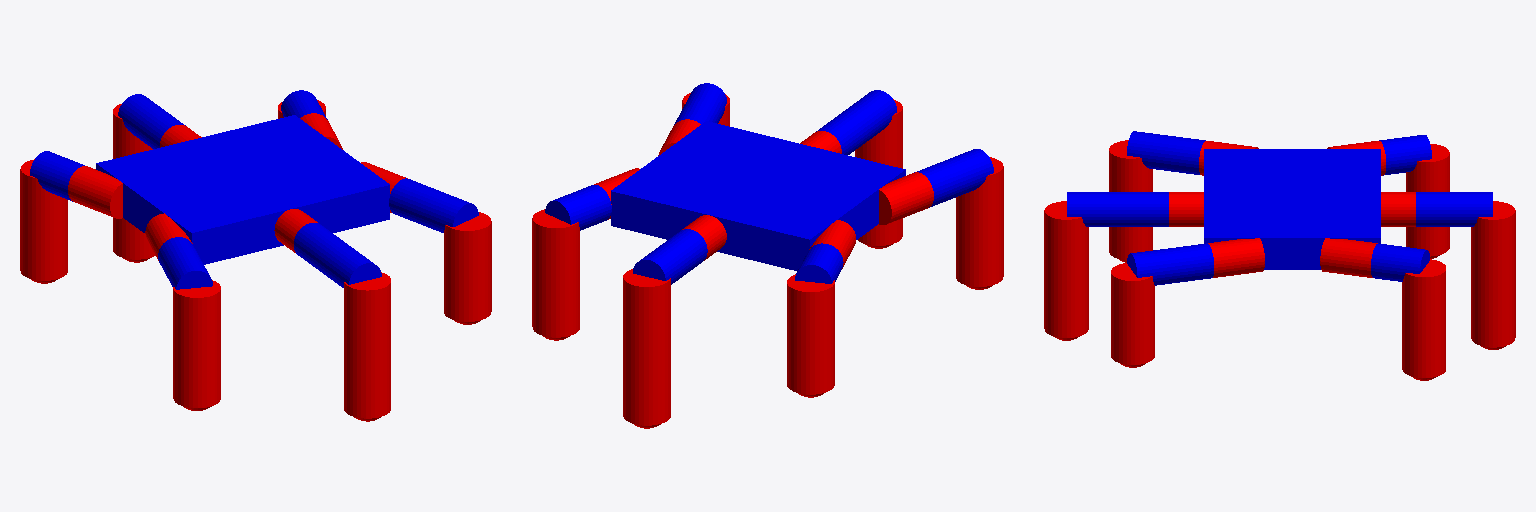
--- Facts derived from the render (not from the file) ---
Views: 3 orthographic renders of the robot side by side, from view 1: azimuth 30°, elevation 25°; view 2: azimuth 150°, elevation 25°; view 3: azimuth 270°, elevation 25°.
Model pexod with 19 links and 18 joints (18 revolute), rooted at base_link, posed every joint at zero.
Links seen in each view (by area): view 1: base_link, leg_4_3, leg_5_3, leg_3_3, leg_0_3, leg_4_2, leg_3_2, leg_1_3, leg_0_1, leg_5_2, leg_1_2, leg_0_2 (+5 smaller); view 2: base_link, leg_1_3, leg_2_3, leg_0_3, leg_5_3, leg_4_2, leg_4_3, leg_1_2, leg_5_2, leg_5_1, leg_2_2, leg_0_2 (+5 smaller); view 3: base_link, leg_1_3, leg_4_3, leg_2_3, leg_3_3, leg_4_2, leg_5_3, leg_3_2, leg_0_3, leg_1_2, leg_5_2, leg_3_1 (+5 smaller).
Link boxes in pixels (x1,y1,x2,y2): base_link: (96,115,389,264); leg_4_3: (344,272,390,421); leg_5_3: (173,280,220,410); leg_3_3: (444,212,491,324); leg_0_3: (20,159,67,283); leg_4_2: (294,223,381,287); leg_3_2: (389,178,478,232); leg_1_3: (113,104,155,262); leg_0_1: (68,166,122,218); leg_5_2: (158,237,212,289); leg_1_2: (118,94,185,148); leg_0_2: (30,151,84,201); base_link: (611,121,905,270); leg_1_3: (623,269,670,428); leg_2_3: (532,209,579,340); leg_0_3: (787,274,834,397); leg_5_3: (956,157,1003,289); leg_4_2: (816,90,896,154); leg_4_3: (855,99,902,248); leg_1_2: (633,229,707,284); leg_5_2: (914,149,993,207); leg_5_1: (879,172,933,224); leg_2_2: (545,185,611,230); leg_0_2: (795,243,843,283); base_link: (1204,149,1380,269); leg_1_3: (1471,201,1515,349); leg_4_3: (1044,201,1088,340); leg_2_3: (1402,259,1445,380); leg_3_3: (1111,263,1154,367); leg_4_2: (1067,192,1168,226); leg_5_3: (1109,140,1152,262); leg_3_2: (1127,243,1213,285); leg_0_3: (1406,144,1449,258); leg_1_2: (1416,192,1492,226); leg_5_2: (1127,131,1205,174); leg_3_1: (1208,238,1264,277).
Size in the robot's own frame: 0.3774 by 0.533 by 0.192 metres.
Geometry: primitives only (box / cylinder / sphere), no mesh files.

URDF robot description (pexod):
<?xml version="1.0" ?>
<!-- =================================================================================== -->
<!-- |    This document was autogenerated by xacro from pexod.xacro                    | -->
<!-- |    EDITING THIS FILE BY HAND IS NOT RECOMMENDED                                 | -->
<!-- =================================================================================== -->
<robot name="pexod" xmlns:xacro="http://www.ros.org/wiki/xacro">
  <!-- <xacro:include filename="$(find pexod_description)/urdf/pexod_control.xacro" /> -->
  <!-- MATERIALS -->
  <material name="Blue">
    <color rgba="0 0 1 1"/>
  </material>
  <material name="Red">
    <color rgba="1 0 0 1"/>
  </material>
  <material name="Green">
    <color rgba="0 1 0 1"/>
  </material>
  <material name="Yellow">
    <color rgba="1 1 0 1"/>
  </material>
  <material name="LightGrey">
    <color rgba="0.6 0.6 0.6 1.0"/>
  </material>
  <!-- END OF MATERIALS -->
  <!-- XACRO MACROS FOR VISUALS AND COLLISIONS -->
  <!-- END OF XACRO MACROS -->
  <!-- TORSO -->
  <link name="base_link">
    <visual>
      <origin rpy="0 0 0" xyz="0 0 0"/>
      <geometry>
        <box size="0.24 0.2 0.04"/>
      </geometry>
      <material name="Blue"/>
    </visual>
    <collision>
      <origin rpy="0 0 0" xyz="0 0 0"/>
      <geometry>
        <box size="0.24 0.2 0.04"/>
      </geometry>
    </collision>
    <inertial>
      <!-- CENTER OF MASS -->
      <origin rpy="0 0 0" xyz="0 0 0"/>
      <mass value="1.031"/>
      <!-- box inertia: 1/12*m(y^2+z^2), ... -->
      <inertia ixx="0.00357413333333" ixy="0" ixz="0" iyy="0.00508626666667" iyz="0" izz="0.00838546666667"/>
    </inertial>
  </link>
  <!-- XACRO MACRO FOR LEGS LINKS/JOINTS -->
  <!-- END OF LEG LINKS/JOINTS -->
  <joint name="body_leg_2" type="revolute">
    <parent link="base_link"/>
    <child link="leg_2_1"/>
    <limit effort="30.0" lower="-1.57079632679" upper="1.57079632679" velocity="7.0"/>
    <origin rpy="0 0 -0.3" xyz="0.11 0.04 0"/>
    <!-- <xacro:if value="${index == 5 or index == 4 or index == 3}">
                <axis xyz="0 0 1"/>
            </xacro:if>
            <xacro:if value="${index == 2 or index == 1 or index == 0}"> -->
    <axis xyz="0 0 1"/>
    <!-- </xacro:if> -->
    <dynamics damping="0.0"/>
  </joint>
  <link name="leg_2_1">
    <visual>
      <origin rpy="1.57079632679 0 0" xyz="0.01 0.03 0"/>
      <geometry>
        <cylinder length="0.06" radius="0.02"/>
      </geometry>
      <material name="Red"/>
    </visual>
    <collision>
      <origin rpy="1.57079632679 0 0" xyz="0.01 0.03 0"/>
      <geometry>
        <box size="0.02 0.02 0.06"/>
      </geometry>
    </collision>
    <inertial>
      <!-- CENTER OF MASS -->
      <origin rpy="1.57079632679 0 0" xyz="0.01 0.03 0"/>
      <mass value="0.02"/>
      <!-- box inertia: 1/12*m(y^2+z^2), ... -->
      <inertia ixx="6.66666666667e-06" ixy="0" ixz="0" iyy="6.66666666667e-06" iyz="0" izz="1.33333333333e-06"/>
    </inertial>
  </link>
  <joint name="leg_2_1_2" type="revolute">
    <parent link="leg_2_1"/>
    <child link="leg_2_2"/>
    <limit effort="30.0" lower="-0.78539816339" upper="0.78539816339" velocity="7.0"/>
    <origin rpy="0 0 0" xyz="0 0.06 0"/>
    <axis xyz="1 0 0"/>
    <dynamics damping="0.0"/>
  </joint>
  <link name="leg_2_2">
    <visual>
      <origin rpy="1.57079632679 0 0" xyz="0.01 0.0290148233759 0"/>
      <geometry>
        <cylinder length="0.0580296467518" radius="0.02"/>
      </geometry>
      <material name="Blue"/>
    </visual>
    <collision>
      <origin rpy="1.57079632679 0 0" xyz="0.01 0.0290148233759 0"/>
      <geometry>
        <box size="0.02 0.02 0.0580296467518"/>
      </geometry>
    </collision>
    <inertial>
      <!-- CENTER OF MASS -->
      <origin rpy="1.57079632679 0 0" xyz="0.01 0.0290148233759 0"/>
      <mass value="0.184"/>
      <!-- box inertia: 1/12*m(y^2+z^2), ... -->
      <inertia ixx="5.77674118328e-05" ixy="0" ixz="0" iyy="5.77674118328e-05" iyz="0" izz="1.22666666667e-05"/>
    </inertial>
  </link>
  <joint name="leg_2_2_3" type="revolute">
    <parent link="leg_2_2"/>
    <child link="leg_2_3"/>
    <limit effort="30.0" lower="-0.78539816339" upper="0.78539816339" velocity="7.0"/>
    <origin rpy="-1.57079632679 0 0" xyz="0 0.0580296467518 0"/>
    <axis xyz="-1 0 0"/>
    <dynamics damping="0.0"/>
  </joint>
  <link name="leg_2_3">
    <visual>
      <origin rpy="1.57079632679 0 0" xyz="0.0125 0.0628916023385 0"/>
      <geometry>
        <cylinder length="0.125783204677" radius="0.025"/>
      </geometry>
      <material name="Red"/>
    </visual>
    <visual>
      <origin rpy="1.57079632679 0 0" xyz="0.0125 0.113283204677 0"/>
      <geometry>
        <sphere radius="0.025"/>
      </geometry>
      <material name="Red"/>
    </visual>
    <collision>
      <origin rpy="1.57079632679 0 0" xyz="0.0125 0.0628916023385 0"/>
      <geometry>
        <box size="0.025 0.025 0.125783204677"/>
      </geometry>
    </collision>
    <collision>
      <origin rpy="1.57079632679 0 0" xyz="0.0125 0.113283204677 0"/>
      <geometry>
        <sphere radius="0.025"/>
      </geometry>
      <material name="Red"/>
    </collision>
    <inertial>
      <!-- CENTER OF MASS -->
      <origin rpy="1.57079632679 0 0" xyz="0.0125 0.0628916023385 0"/>
      <mass value="0.04"/>
      <!-- box inertia: 1/12*m(y^2+z^2), ... -->
      <inertia ixx="5.48213819294e-05" ixy="0" ixz="0" iyy="5.48213819294e-05" iyz="0" izz="4.16666666667e-06"/>
    </inertial>
  </link>
  <joint name="body_leg_3" type="revolute">
    <parent link="base_link"/>
    <child link="leg_3_1"/>
    <limit effort="30.0" lower="-1.57079632679" upper="1.57079632679" velocity="7.0"/>
    <origin rpy="0 0 0.3" xyz="0.11 -0.04 0"/>
    <!-- <xacro:if value="${index == 5 or index == 4 or index == 3}">
                <axis xyz="0 0 1"/>
            </xacro:if>
            <xacro:if value="${index == 2 or index == 1 or index == 0}"> -->
    <axis xyz="0 0 1"/>
    <!-- </xacro:if> -->
    <dynamics damping="0.0"/>
  </joint>
  <link name="leg_3_1">
    <visual>
      <origin rpy="1.57079632679 0 0" xyz="0.01 -0.03 0"/>
      <geometry>
        <cylinder length="0.06" radius="0.02"/>
      </geometry>
      <material name="Red"/>
    </visual>
    <collision>
      <origin rpy="1.57079632679 0 0" xyz="0.01 -0.03 0"/>
      <geometry>
        <box size="0.02 0.02 0.06"/>
      </geometry>
    </collision>
    <inertial>
      <!-- CENTER OF MASS -->
      <origin rpy="1.57079632679 0 0" xyz="0.01 -0.03 0"/>
      <mass value="0.02"/>
      <!-- box inertia: 1/12*m(y^2+z^2), ... -->
      <inertia ixx="6.66666666667e-06" ixy="0" ixz="0" iyy="6.66666666667e-06" iyz="0" izz="1.33333333333e-06"/>
    </inertial>
  </link>
  <joint name="leg_3_1_2" type="revolute">
    <parent link="leg_3_1"/>
    <child link="leg_3_2"/>
    <limit effort="30.0" lower="-0.78539816339" upper="0.78539816339" velocity="7.0"/>
    <origin rpy="0 0 0" xyz="0 -0.06 0"/>
    <axis xyz="-1 0 0"/>
    <dynamics damping="0.0"/>
  </joint>
  <link name="leg_3_2">
    <visual>
      <origin rpy="1.57079632679 0 0" xyz="0.01 -0.0455737501777 0"/>
      <geometry>
        <cylinder length="0.0911475003555" radius="0.02"/>
      </geometry>
      <material name="Blue"/>
    </visual>
    <collision>
      <origin rpy="1.57079632679 0 0" xyz="0.01 -0.0455737501777 0"/>
      <geometry>
        <box size="0.02 0.02 0.0911475003555"/>
      </geometry>
    </collision>
    <inertial>
      <!-- CENTER OF MASS -->
      <origin rpy="1.57079632679 0 0" xyz="0.01 -0.0455737501777 0"/>
      <mass value="0.184"/>
      <!-- box inertia: 1/12*m(y^2+z^2), ... -->
      <inertia ixx="0.00013352062459" ixy="0" ixz="0" iyy="0.00013352062459" iyz="0" izz="1.22666666667e-05"/>
    </inertial>
  </link>
  <joint name="leg_3_2_3" type="revolute">
    <parent link="leg_3_2"/>
    <child link="leg_3_3"/>
    <limit effort="30.0" lower="-0.78539816339" upper="0.78539816339" velocity="7.0"/>
    <origin rpy="1.57079632679 0 0" xyz="0 -0.0911475003555 0"/>
    <axis xyz="1 0 0"/>
    <dynamics damping="0.0"/>
  </joint>
  <link name="leg_3_3">
    <visual>
      <origin rpy="1.57079632679 0 0" xyz="0.0125 -0.052447094739 0"/>
      <geometry>
        <cylinder length="0.104894189478" radius="0.025"/>
      </geometry>
      <material name="Red"/>
    </visual>
    <visual>
      <origin rpy="1.57079632679 0 0" xyz="0.0125 -0.092394189478 0"/>
      <geometry>
        <sphere radius="0.025"/>
      </geometry>
      <material name="Red"/>
    </visual>
    <collision>
      <origin rpy="1.57079632679 0 0" xyz="0.0125 -0.052447094739 0"/>
      <geometry>
        <box size="0.025 0.025 0.104894189478"/>
      </geometry>
    </collision>
    <collision>
      <origin rpy="1.57079632679 0 0" xyz="0.0125 -0.092394189478 0"/>
      <geometry>
        <sphere radius="0.025"/>
      </geometry>
      <material name="Red"/>
    </collision>
    <inertial>
      <!-- CENTER OF MASS -->
      <origin rpy="1.57079632679 0 0" xyz="0.0125 -0.052447094739 0"/>
      <mass value="0.04"/>
      <!-- box inertia: 1/12*m(y^2+z^2), ... -->
      <inertia ixx="3.87593032875e-05" ixy="0" ixz="0" iyy="3.87593032875e-05" iyz="0" izz="4.16666666667e-06"/>
    </inertial>
  </link>
  <joint name="body_leg_0" type="revolute">
    <parent link="base_link"/>
    <child link="leg_0_1"/>
    <limit effort="30.0" lower="-1.57079632679" upper="1.57079632679" velocity="7.0"/>
    <origin rpy="0 0 0.3" xyz="-0.13 0.04 0"/>
    <!-- <xacro:if value="${index == 5 or index == 4 or index == 3}">
                <axis xyz="0 0 1"/>
            </xacro:if>
            <xacro:if value="${index == 2 or index == 1 or index == 0}"> -->
    <axis xyz="0 0 1"/>
    <!-- </xacro:if> -->
    <dynamics damping="0.0"/>
  </joint>
  <link name="leg_0_1">
    <visual>
      <origin rpy="1.57079632679 0 0" xyz="0.01 0.03 0"/>
      <geometry>
        <cylinder length="0.06" radius="0.02"/>
      </geometry>
      <material name="Red"/>
    </visual>
    <collision>
      <origin rpy="1.57079632679 0 0" xyz="0.01 0.03 0"/>
      <geometry>
        <box size="0.02 0.02 0.06"/>
      </geometry>
    </collision>
    <inertial>
      <!-- CENTER OF MASS -->
      <origin rpy="1.57079632679 0 0" xyz="0.01 0.03 0"/>
      <mass value="0.02"/>
      <!-- box inertia: 1/12*m(y^2+z^2), ... -->
      <inertia ixx="6.66666666667e-06" ixy="0" ixz="0" iyy="6.66666666667e-06" iyz="0" izz="1.33333333333e-06"/>
    </inertial>
  </link>
  <joint name="leg_0_1_2" type="revolute">
    <parent link="leg_0_1"/>
    <child link="leg_0_2"/>
    <limit effort="30.0" lower="-0.78539816339" upper="0.78539816339" velocity="7.0"/>
    <origin rpy="0 0 0" xyz="0 0.06 0"/>
    <axis xyz="1 0 0"/>
    <dynamics damping="0.0"/>
  </joint>
  <link name="leg_0_2">
    <visual>
      <origin rpy="1.57079632679 0 0" xyz="0.01 0.0271287310083 0"/>
      <geometry>
        <cylinder length="0.0542574620166" radius="0.02"/>
      </geometry>
      <material name="Blue"/>
    </visual>
    <collision>
      <origin rpy="1.57079632679 0 0" xyz="0.01 0.0271287310083 0"/>
      <geometry>
        <box size="0.02 0.02 0.0542574620166"/>
      </geometry>
    </collision>
    <inertial>
      <!-- CENTER OF MASS -->
      <origin rpy="1.57079632679 0 0" xyz="0.01 0.0271287310083 0"/>
      <mass value="0.184"/>
      <!-- box inertia: 1/12*m(y^2+z^2), ... -->
      <inertia ixx="5.12727068287e-05" ixy="0" ixz="0" iyy="5.12727068287e-05" iyz="0" izz="1.22666666667e-05"/>
    </inertial>
  </link>
  <joint name="leg_0_2_3" type="revolute">
    <parent link="leg_0_2"/>
    <child link="leg_0_3"/>
    <limit effort="30.0" lower="-0.78539816339" upper="0.78539816339" velocity="7.0"/>
    <origin rpy="-1.57079632679 0 0" xyz="0 0.0542574620166 0"/>
    <axis xyz="-1 0 0"/>
    <dynamics damping="0.0"/>
  </joint>
  <link name="leg_0_3">
    <visual>
      <origin rpy="1.57079632679 0 0" xyz="0.0125 0.058951732463 0"/>
      <geometry>
        <cylinder length="0.117903464926" radius="0.025"/>
      </geometry>
      <material name="Red"/>
    </visual>
    <visual>
      <origin rpy="1.57079632679 0 0" xyz="0.0125 0.105403464926 0"/>
      <geometry>
        <sphere radius="0.025"/>
      </geometry>
      <material name="Red"/>
    </visual>
    <collision>
      <origin rpy="1.57079632679 0 0" xyz="0.0125 0.058951732463 0"/>
      <geometry>
        <box size="0.025 0.025 0.117903464926"/>
      </geometry>
    </collision>
    <collision>
      <origin rpy="1.57079632679 0 0" xyz="0.0125 0.105403464926 0"/>
      <geometry>
        <sphere radius="0.025"/>
      </geometry>
      <material name="Red"/>
    </collision>
    <inertial>
      <!-- CENTER OF MASS -->
      <origin rpy="1.57079632679 0 0" xyz="0.0125 0.058951732463 0"/>
      <mass value="0.04"/>
      <!-- box inertia: 1/12*m(y^2+z^2), ... -->
      <inertia ixx="4.84207568052e-05" ixy="0" ixz="0" iyy="4.84207568052e-05" iyz="0" izz="4.16666666667e-06"/>
    </inertial>
  </link>
  <joint name="body_leg_5" type="revolute">
    <parent link="base_link"/>
    <child link="leg_5_1"/>
    <limit effort="30.0" lower="-1.57079632679" upper="1.57079632679" velocity="7.0"/>
    <origin rpy="0 0 -0.3" xyz="-0.13 -0.04 0"/>
    <!-- <xacro:if value="${index == 5 or index == 4 or index == 3}">
                <axis xyz="0 0 1"/>
            </xacro:if>
            <xacro:if value="${index == 2 or index == 1 or index == 0}"> -->
    <axis xyz="0 0 1"/>
    <!-- </xacro:if> -->
    <dynamics damping="0.0"/>
  </joint>
  <link name="leg_5_1">
    <visual>
      <origin rpy="1.57079632679 0 0" xyz="0.01 -0.03 0"/>
      <geometry>
        <cylinder length="0.06" radius="0.02"/>
      </geometry>
      <material name="Red"/>
    </visual>
    <collision>
      <origin rpy="1.57079632679 0 0" xyz="0.01 -0.03 0"/>
      <geometry>
        <box size="0.02 0.02 0.06"/>
      </geometry>
    </collision>
    <inertial>
      <!-- CENTER OF MASS -->
      <origin rpy="1.57079632679 0 0" xyz="0.01 -0.03 0"/>
      <mass value="0.02"/>
      <!-- box inertia: 1/12*m(y^2+z^2), ... -->
      <inertia ixx="6.66666666667e-06" ixy="0" ixz="0" iyy="6.66666666667e-06" iyz="0" izz="1.33333333333e-06"/>
    </inertial>
  </link>
  <joint name="leg_5_1_2" type="revolute">
    <parent link="leg_5_1"/>
    <child link="leg_5_2"/>
    <limit effort="30.0" lower="-0.78539816339" upper="0.78539816339" velocity="7.0"/>
    <origin rpy="0 0 0" xyz="0 -0.06 0"/>
    <axis xyz="-1 0 0"/>
    <dynamics damping="0.0"/>
  </joint>
  <link name="leg_5_2">
    <visual>
      <origin rpy="1.57079632679 0 0" xyz="0.01 -0.0427410279068 0"/>
      <geometry>
        <cylinder length="0.0854820558137" radius="0.02"/>
      </geometry>
      <material name="Blue"/>
    </visual>
    <collision>
      <origin rpy="1.57079632679 0 0" xyz="0.01 -0.0427410279068 0"/>
      <geometry>
        <box size="0.02 0.02 0.0854820558137"/>
      </geometry>
    </collision>
    <inertial>
      <!-- CENTER OF MASS -->
      <origin rpy="1.57079632679 0 0" xyz="0.01 -0.0427410279068 0"/>
      <mass value="0.184"/>
      <!-- box inertia: 1/12*m(y^2+z^2), ... -->
      <inertia ixx="0.000118176788614" ixy="0" ixz="0" iyy="0.000118176788614" iyz="0" izz="1.22666666667e-05"/>
    </inertial>
  </link>
  <joint name="leg_5_2_3" type="revolute">
    <parent link="leg_5_2"/>
    <child link="leg_5_3"/>
    <limit effort="30.0" lower="-0.78539816339" upper="0.78539816339" velocity="7.0"/>
    <origin rpy="1.57079632679 0 0" xyz="0 -0.0854820558137 0"/>
    <axis xyz="1 0 0"/>
    <dynamics damping="0.0"/>
  </joint>
  <link name="leg_5_3">
    <visual>
      <origin rpy="1.57079632679 0 0" xyz="0.0125 -0.063672523781 0"/>
      <geometry>
        <cylinder length="0.127345047562" radius="0.025"/>
      </geometry>
      <material name="Red"/>
    </visual>
    <visual>
      <origin rpy="1.57079632679 0 0" xyz="0.0125 -0.114845047562 0"/>
      <geometry>
        <sphere radius="0.025"/>
      </geometry>
      <material name="Red"/>
    </visual>
    <collision>
      <origin rpy="1.57079632679 0 0" xyz="0.0125 -0.063672523781 0"/>
      <geometry>
        <box size="0.025 0.025 0.127345047562"/>
      </geometry>
    </collision>
    <collision>
      <origin rpy="1.57079632679 0 0" xyz="0.0125 -0.114845047562 0"/>
      <geometry>
        <sphere radius="0.025"/>
      </geometry>
      <material name="Red"/>
    </collision>
    <inertial>
      <!-- CENTER OF MASS -->
      <origin rpy="1.57079632679 0 0" xyz="0.0125 -0.063672523781 0"/>
      <mass value="0.04"/>
      <!-- box inertia: 1/12*m(y^2+z^2), ... -->
      <inertia ixx="5.61392037952e-05" ixy="0" ixz="0" iyy="5.61392037952e-05" iyz="0" izz="4.16666666667e-06"/>
    </inertial>
  </link>
  <joint name="body_leg_1" type="revolute">
    <parent link="base_link"/>
    <child link="leg_1_1"/>
    <limit effort="30.0" lower="-1.57079632679" upper="1.57079632679" velocity="7.0"/>
    <origin rpy="0 0 0" xyz="-0.01 0.08 0"/>
    <!-- <xacro:if value="${index == 5 or index == 4 or index == 3}">
                <axis xyz="0 0 1"/>
            </xacro:if>
            <xacro:if value="${index == 2 or index == 1 or index == 0}"> -->
    <axis xyz="0 0 1"/>
    <!-- </xacro:if> -->
    <dynamics damping="0.0"/>
  </joint>
  <link name="leg_1_1">
    <visual>
      <origin rpy="1.57079632679 0 0" xyz="0.01 0.03 0"/>
      <geometry>
        <cylinder length="0.06" radius="0.02"/>
      </geometry>
      <material name="Red"/>
    </visual>
    <collision>
      <origin rpy="1.57079632679 0 0" xyz="0.01 0.03 0"/>
      <geometry>
        <box size="0.02 0.02 0.06"/>
      </geometry>
    </collision>
    <inertial>
      <!-- CENTER OF MASS -->
      <origin rpy="1.57079632679 0 0" xyz="0.01 0.03 0"/>
      <mass value="0.02"/>
      <!-- box inertia: 1/12*m(y^2+z^2), ... -->
      <inertia ixx="6.66666666667e-06" ixy="0" ixz="0" iyy="6.66666666667e-06" iyz="0" izz="1.33333333333e-06"/>
    </inertial>
  </link>
  <joint name="leg_1_1_2" type="revolute">
    <parent link="leg_1_1"/>
    <child link="leg_1_2"/>
    <limit effort="30.0" lower="-0.78539816339" upper="0.78539816339" velocity="7.0"/>
    <origin rpy="0 0 0" xyz="0 0.06 0"/>
    <axis xyz="1 0 0"/>
    <dynamics damping="0.0"/>
  </joint>
  <link name="leg_1_2">
    <visual>
      <origin rpy="1.57079632679 0 0" xyz="0.01 0.04359605499 0"/>
      <geometry>
        <cylinder length="0.08719210998" radius="0.02"/>
      </geometry>
      <material name="Blue"/>
    </visual>
    <collision>
      <origin rpy="1.57079632679 0 0" xyz="0.01 0.04359605499 0"/>
      <geometry>
        <box size="0.02 0.02 0.08719210998"/>
      </geometry>
    </collision>
    <inertial>
      <!-- CENTER OF MASS -->
      <origin rpy="1.57079632679 0 0" xyz="0.01 0.04359605499 0"/>
      <mass value="0.184"/>
      <!-- box inertia: 1/12*m(y^2+z^2), ... -->
      <inertia ixx="0.000122704448656" ixy="0" ixz="0" iyy="0.000122704448656" iyz="0" izz="1.22666666667e-05"/>
    </inertial>
  </link>
  <joint name="leg_1_2_3" type="revolute">
    <parent link="leg_1_2"/>
    <child link="leg_1_3"/>
    <limit effort="30.0" lower="-0.78539816339" upper="0.78539816339" velocity="7.0"/>
    <origin rpy="-1.57079632679 0 0" xyz="0 0.08719210998 0"/>
    <axis xyz="-1 0 0"/>
    <dynamics damping="0.0"/>
  </joint>
  <link name="leg_1_3">
    <visual>
      <origin rpy="1.57079632679 0 0" xyz="0.0125 0.079763216731 0"/>
      <geometry>
        <cylinder length="0.159526433462" radius="0.025"/>
      </geometry>
      <material name="Red"/>
    </visual>
    <visual>
      <origin rpy="1.57079632679 0 0" xyz="0.0125 0.147026433462 0"/>
      <geometry>
        <sphere radius="0.025"/>
      </geometry>
      <material name="Red"/>
    </visual>
    <collision>
      <origin rpy="1.57079632679 0 0" xyz="0.0125 0.079763216731 0"/>
      <geometry>
        <box size="0.025 0.025 0.159526433462"/>
      </geometry>
    </collision>
    <collision>
      <origin rpy="1.57079632679 0 0" xyz="0.0125 0.147026433462 0"/>
      <geometry>
        <sphere radius="0.025"/>
      </geometry>
      <material name="Red"/>
    </collision>
    <inertial>
      <!-- CENTER OF MASS -->
      <origin rpy="1.57079632679 0 0" xyz="0.0125 0.079763216731 0"/>
      <mass value="0.04"/>
      <!-- box inertia: 1/12*m(y^2+z^2), ... -->
      <inertia ixx="8.6912276577e-05" ixy="0" ixz="0" iyy="8.6912276577e-05" iyz="0" izz="4.16666666667e-06"/>
    </inertial>
  </link>
  <joint name="body_leg_4" type="revolute">
    <parent link="base_link"/>
    <child link="leg_4_1"/>
    <limit effort="30.0" lower="-1.57079632679" upper="1.57079632679" velocity="7.0"/>
    <origin rpy="0 0 0" xyz="-0.01 -0.08 0"/>
    <!-- <xacro:if value="${index == 5 or index == 4 or index == 3}">
                <axis xyz="0 0 1"/>
            </xacro:if>
            <xacro:if value="${index == 2 or index == 1 or index == 0}"> -->
    <axis xyz="0 0 1"/>
    <!-- </xacro:if> -->
    <dynamics damping="0.0"/>
  </joint>
  <link name="leg_4_1">
    <visual>
      <origin rpy="1.57079632679 0 0" xyz="0.01 -0.03 0"/>
      <geometry>
        <cylinder length="0.06" radius="0.02"/>
      </geometry>
      <material name="Red"/>
    </visual>
    <collision>
      <origin rpy="1.57079632679 0 0" xyz="0.01 -0.03 0"/>
      <geometry>
        <box size="0.02 0.02 0.06"/>
      </geometry>
    </collision>
    <inertial>
      <!-- CENTER OF MASS -->
      <origin rpy="1.57079632679 0 0" xyz="0.01 -0.03 0"/>
      <mass value="0.02"/>
      <!-- box inertia: 1/12*m(y^2+z^2), ... -->
      <inertia ixx="6.66666666667e-06" ixy="0" ixz="0" iyy="6.66666666667e-06" iyz="0" izz="1.33333333333e-06"/>
    </inertial>
  </link>
  <joint name="leg_4_1_2" type="revolute">
    <parent link="leg_4_1"/>
    <child link="leg_4_2"/>
    <limit effort="30.0" lower="-0.78539816339" upper="0.78539816339" velocity="7.0"/>
    <origin rpy="0 0 0" xyz="0 -0.06 0"/>
    <axis xyz="-1 0 0"/>
    <dynamics damping="0.0"/>
  </joint>
  <link name="leg_4_2">
    <visual>
      <origin rpy="1.57079632679 0 0" xyz="0.01 -0.0579259414115 0"/>
      <geometry>
        <cylinder length="0.115851882823" radius="0.02"/>
      </geometry>
      <material name="Blue"/>
    </visual>
    <collision>
      <origin rpy="1.57079632679 0 0" xyz="0.01 -0.0579259414115 0"/>
      <geometry>
        <box size="0.02 0.02 0.115851882823"/>
      </geometry>
    </collision>
    <inertial>
      <!-- CENTER OF MASS -->
      <origin rpy="1.57079632679 0 0" xyz="0.01 -0.0579259414115 0"/>
      <mass value="0.184"/>
      <!-- box inertia: 1/12*m(y^2+z^2), ... -->
      <inertia ixx="0.000211932100889" ixy="0" ixz="0" iyy="0.000211932100889" iyz="0" izz="1.22666666667e-05"/>
    </inertial>
  </link>
  <joint name="leg_4_2_3" type="revolute">
    <parent link="leg_4_2"/>
    <child link="leg_4_3"/>
    <limit effort="30.0" lower="-0.78539816339" upper="0.78539816339" velocity="7.0"/>
    <origin rpy="1.57079632679 0 0" xyz="0 -0.115851882823 0"/>
    <axis xyz="1 0 0"/>
    <dynamics damping="0.0"/>
  </joint>
  <link name="leg_4_3">
    <visual>
      <origin rpy="1.57079632679 0 0" xyz="0.0125 -0.0738945223515 0"/>
      <geometry>
        <cylinder length="0.147789044703" radius="0.025"/>
      </geometry>
      <material name="Red"/>
    </visual>
    <visual>
      <origin rpy="1.57079632679 0 0" xyz="0.0125 -0.135289044703 0"/>
      <geometry>
        <sphere radius="0.025"/>
      </geometry>
      <material name="Red"/>
    </visual>
    <collision>
      <origin rpy="1.57079632679 0 0" xyz="0.0125 -0.0738945223515 0"/>
      <geometry>
        <box size="0.025 0.025 0.147789044703"/>
      </geometry>
    </collision>
    <collision>
      <origin rpy="1.57079632679 0 0" xyz="0.0125 -0.135289044703 0"/>
      <geometry>
        <sphere radius="0.025"/>
      </geometry>
      <material name="Red"/>
    </collision>
    <inertial>
      <!-- CENTER OF MASS -->
      <origin rpy="1.57079632679 0 0" xyz="0.0125 -0.0738945223515 0"/>
      <mass value="0.04"/>
      <!-- box inertia: 1/12*m(y^2+z^2), ... -->
      <inertia ixx="7.48886724474e-05" ixy="0" ixz="0" iyy="7.48886724474e-05" iyz="0" izz="4.16666666667e-06"/>
    </inertial>
  </link>
  <!-- END OF LEG LINKS/JOINTS -->
</robot>
